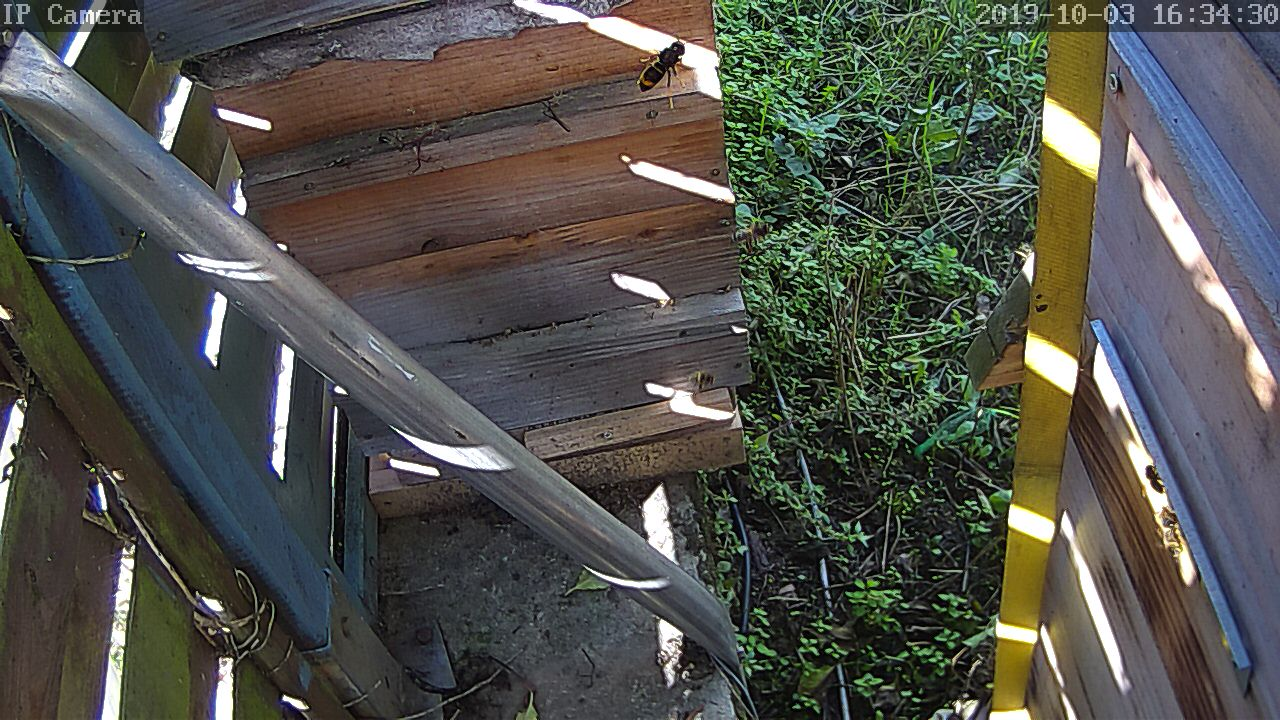bee: (1155, 508, 1191, 559), (1139, 457, 1169, 500)
hornet: (632, 38, 694, 99)
